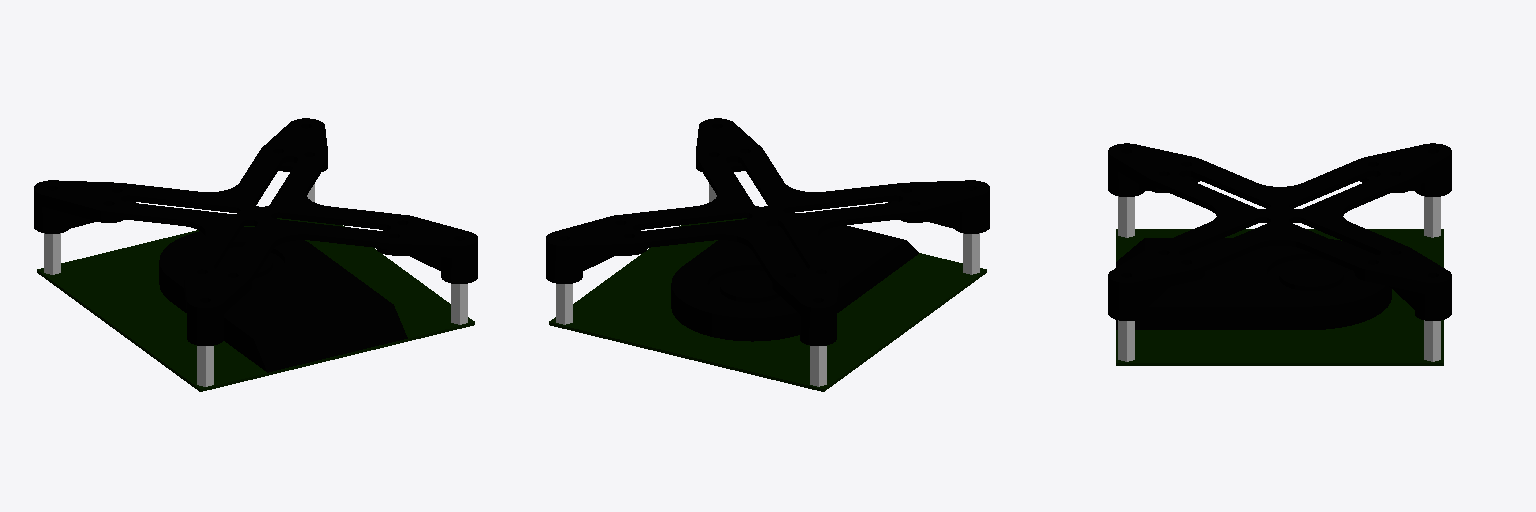
The model's file is f330_nuc.obj.
3 views of the same model, side by side, from view 1: azimuth 30°, elevation 25°; view 2: azimuth 150°, elevation 25°; view 3: azimuth 270°, elevation 25° (orthographic).
Parts seen in each view (by area): view 1: obj1; view 2: obj1; view 3: obj1.
Boxes of the visible parts, x1,y1,x2,y2 form: obj1: [34, 118, 477, 391]; obj1: [546, 118, 989, 391]; obj1: [1108, 143, 1451, 365].
Size of the model in its own units: 0.102 by 0.0291 by 0.106.